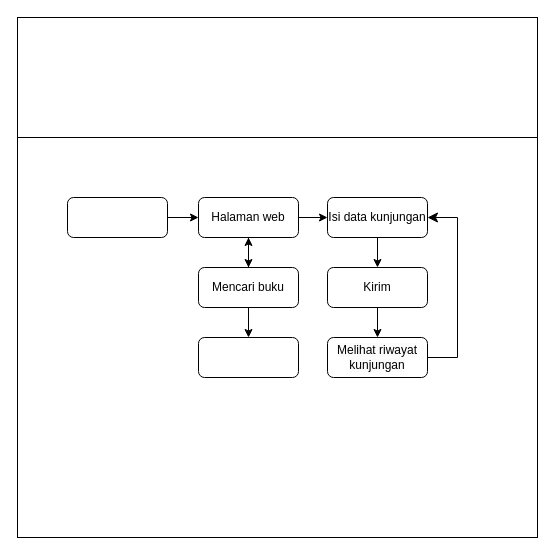
The diagram is 555 pixels wide and 555 high, and some of its shapes have lost their labels. The centre of each missing label's shape, as x and y in pixels:
"Alur perpustakaan digital" belongs at [277,77].
"Melihat detail buku" belongs at [248,357].
"Pengunjung" belongs at [117,217].
